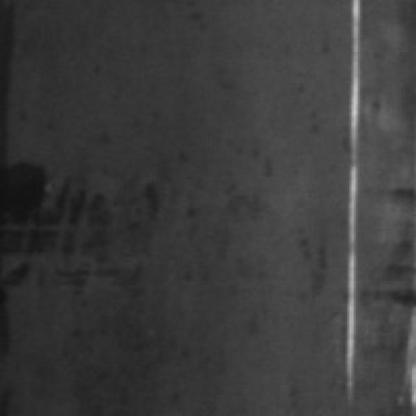patches: (2, 164, 71, 233)
pitted_surface: (146, 29, 278, 304)
scratches: (342, 2, 375, 404)
